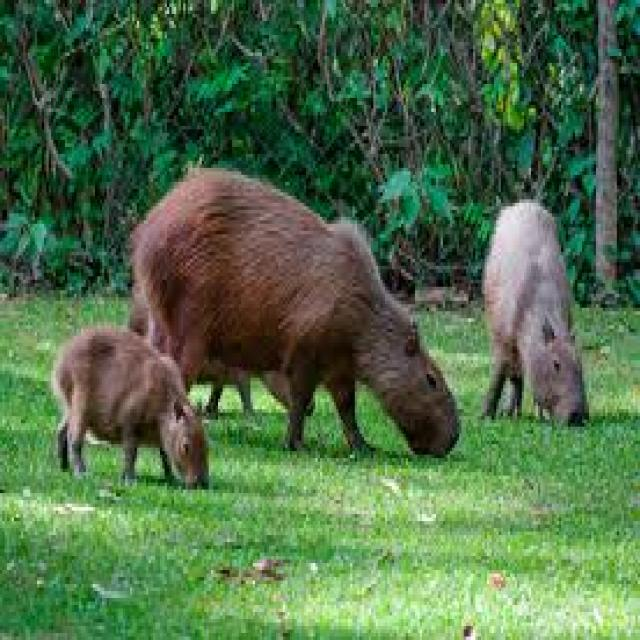capy: (129, 165, 460, 460), (51, 319, 210, 486), (481, 200, 588, 426)
